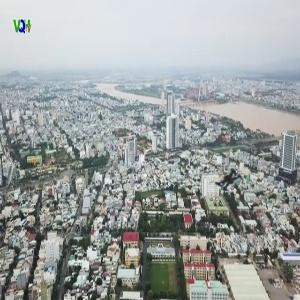drone: (195, 146, 262, 213)
